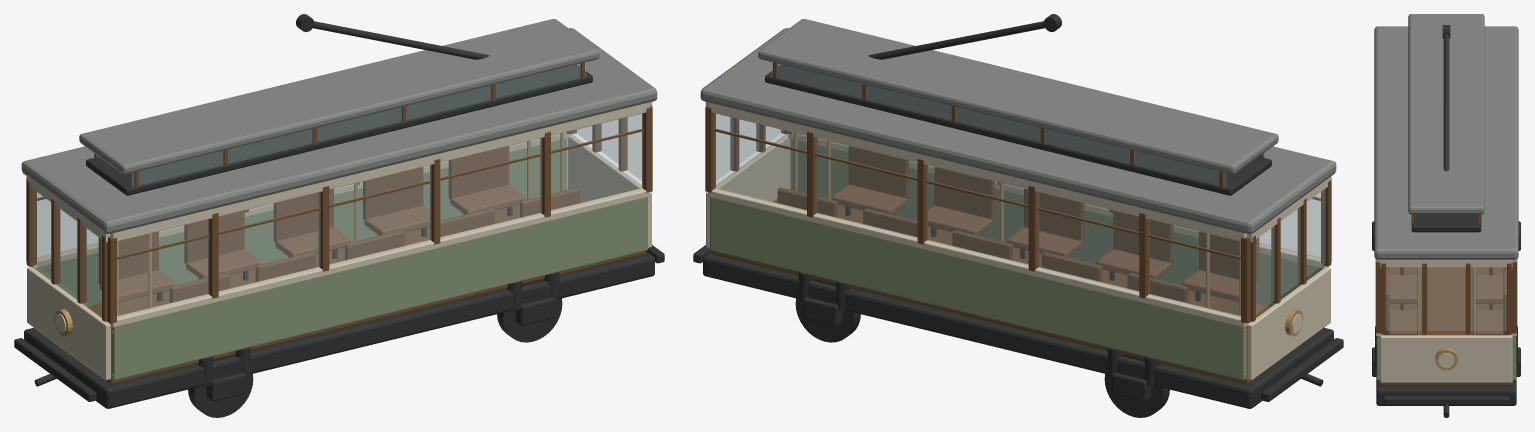
The model's file is pesag_j.glb.
3 views of the same model, side by side, from view 1: azimuth 30°, elevation 25°; view 2: azimuth 150°, elevation 25°; view 3: azimuth 270°, elevation 25° (orthographic). The views are drawn at different scales.
Parts seen in each view (by area): view 1: Dach Haupt, Glasscheibe Seite, Seitenwand Unterteil, Fahrgestell, Dielenboden, Fensterbank, Sitzbank, Zierleiste; view 2: Dach Haupt, Glasscheibe Seite, Seitenwand Unterteil, Fahrgestell, Dielenboden, Fensterbank, Sitzbank, Zierleiste; view 3: Dach Haupt, Fensterbank, Dielenboden, Glasscheibe Seite, Fahrgestell, Sitzbank, Zierleiste, Seitenwand Unterteil.
Boxes of the visible parts, <box> form: Dach Haupt: <box>21,19,657,233</box>; Glasscheibe Seite: <box>33,62,642,316</box>; Seitenwand Unterteil: <box>35,139,647,380</box>; Fahrgestell: <box>14,14,664,417</box>; Dielenboden: <box>26,62,652,384</box>; Fensterbank: <box>26,102,652,380</box>; Sitzbank: <box>100,184,525,302</box>; Zierleiste: <box>54,133,648,376</box>; Dach Haupt: <box>700,19,1336,233</box>; Glasscheibe Seite: <box>715,62,1324,316</box>; Seitenwand Unterteil: <box>710,139,1322,380</box>; Fahrgestell: <box>693,14,1343,417</box>; Dielenboden: <box>705,62,1331,384</box>; Fensterbank: <box>705,102,1331,380</box>; Sitzbank: <box>832,184,1257,302</box>; Zierleiste: <box>709,133,1303,376</box>; Dach Haupt: <box>1374,14,1518,259</box>; Fensterbank: <box>1376,259,1516,382</box>; Dielenboden: <box>1375,214,1517,385</box>; Glasscheibe Seite: <box>1386,267,1506,330</box>; Fahrgestell: <box>1372,25,1520,417</box>; Sitzbank: <box>1387,275,1505,335</box>; Zierleiste: <box>1377,267,1515,377</box>; Seitenwand Unterteil: <box>1376,336,1516,380</box>.
Size of the model in its own units: 8.84 by 4.78 by 2.25.
